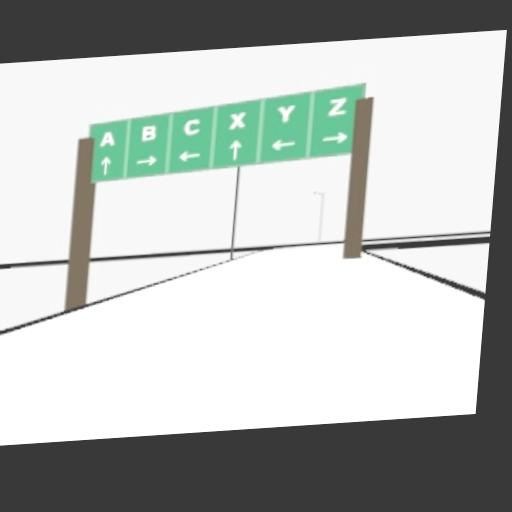A: (98, 130, 116, 146)
B: (141, 124, 155, 140)
C: (182, 119, 199, 136)
Left: (268, 138, 295, 151), (176, 149, 200, 162)
Right: (320, 132, 347, 144), (134, 154, 158, 167)
Straight: (227, 139, 242, 160), (99, 155, 111, 173)
X: (228, 111, 246, 130)
Y: (275, 104, 295, 123)
Z: (326, 95, 347, 117)
